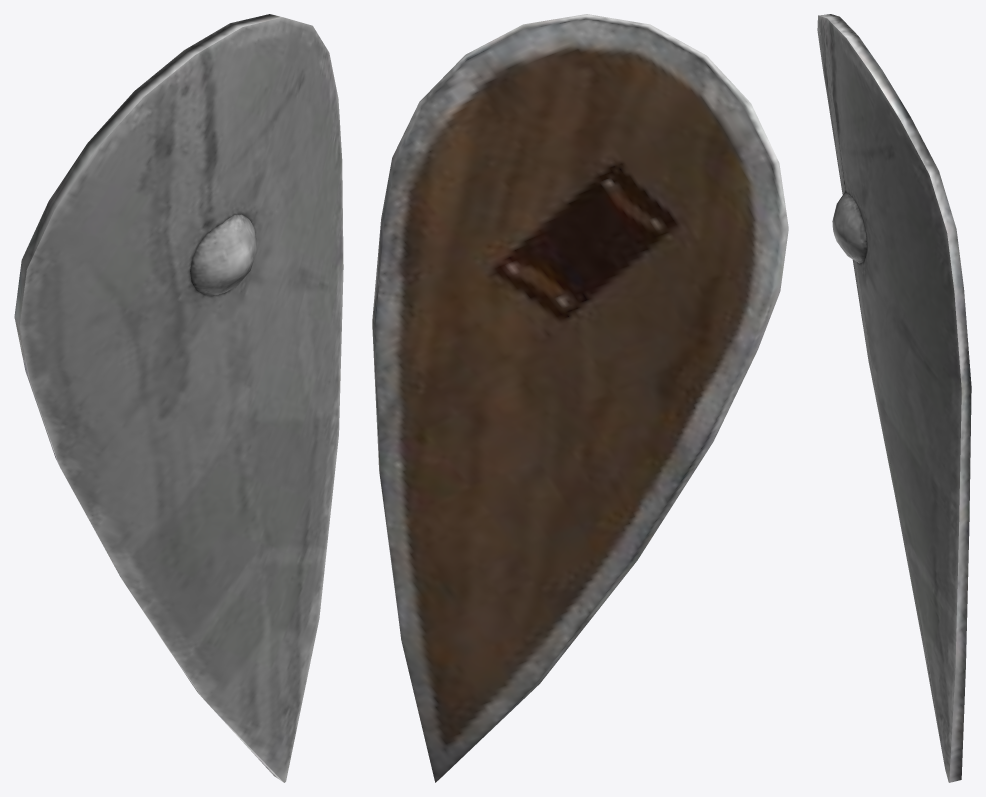
Rendered from shield-female-ironshields.glb.
The picture shows the model from 3 angles, left to right: view 1: azimuth 30°, elevation 25°; view 2: azimuth 150°, elevation 25°; view 3: azimuth 270°, elevation 25°; orthographic projection. The views are drawn at different scales.
Bounding box in the file's own units: 0.6424 × 1.3 × 0.2596.
1 material, 1 textured.
